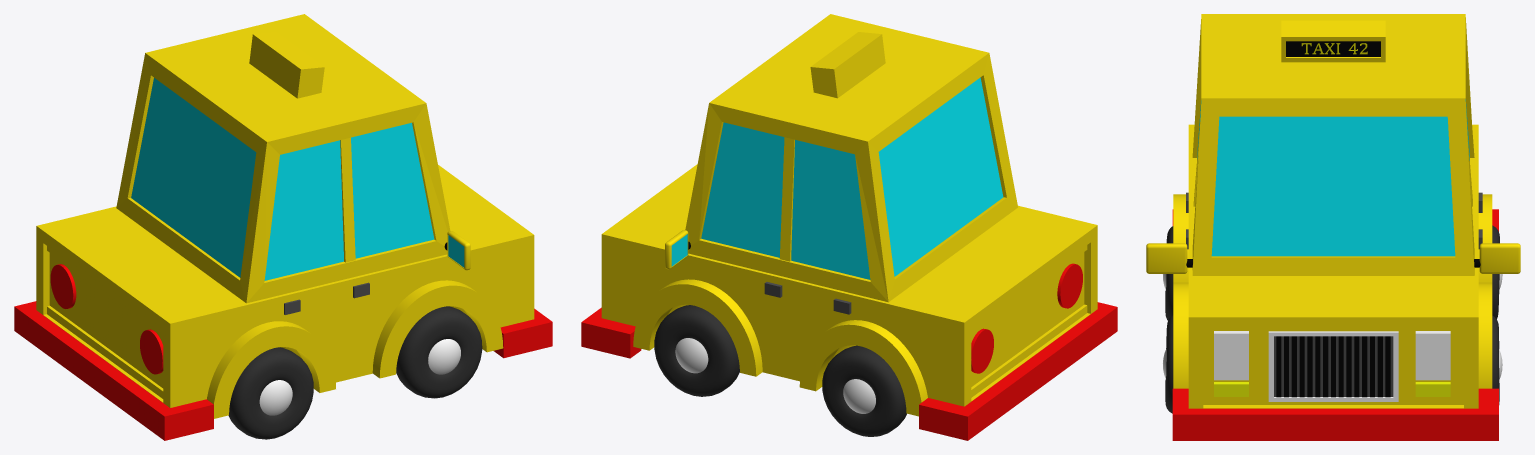
File: taxi.FBX
3 views of the same model, side by side, from view 1: azimuth 30°, elevation 25°; view 2: azimuth 150°, elevation 25°; view 3: azimuth 270°, elevation 25° (orthographic). The views are drawn at different scales.
Visible parts, largest first — view 1: taxi 42; view 2: taxi 42; view 3: taxi 42.
Boxes of the visible parts, x1,y1,x2,y2 form: taxi 42: [14, 14, 552, 440]; taxi 42: [581, 14, 1117, 440]; taxi 42: [1146, 14, 1520, 440].
Size of the model in its own units: 117 by 91.12 by 90.43.
